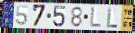5: (52, 5, 67, 28), (15, 5, 29, 26)
7: (31, 3, 47, 27)
8: (70, 6, 83, 28)
L: (89, 6, 102, 29), (107, 7, 120, 29)
